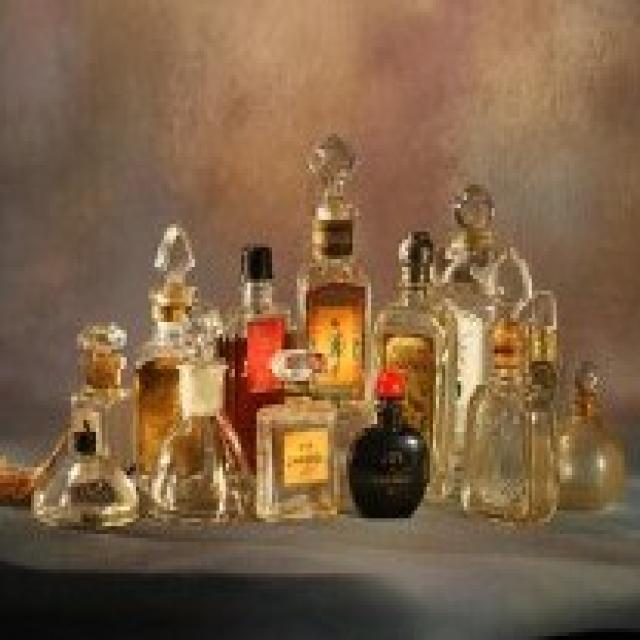electronic: (30, 133, 626, 532)
